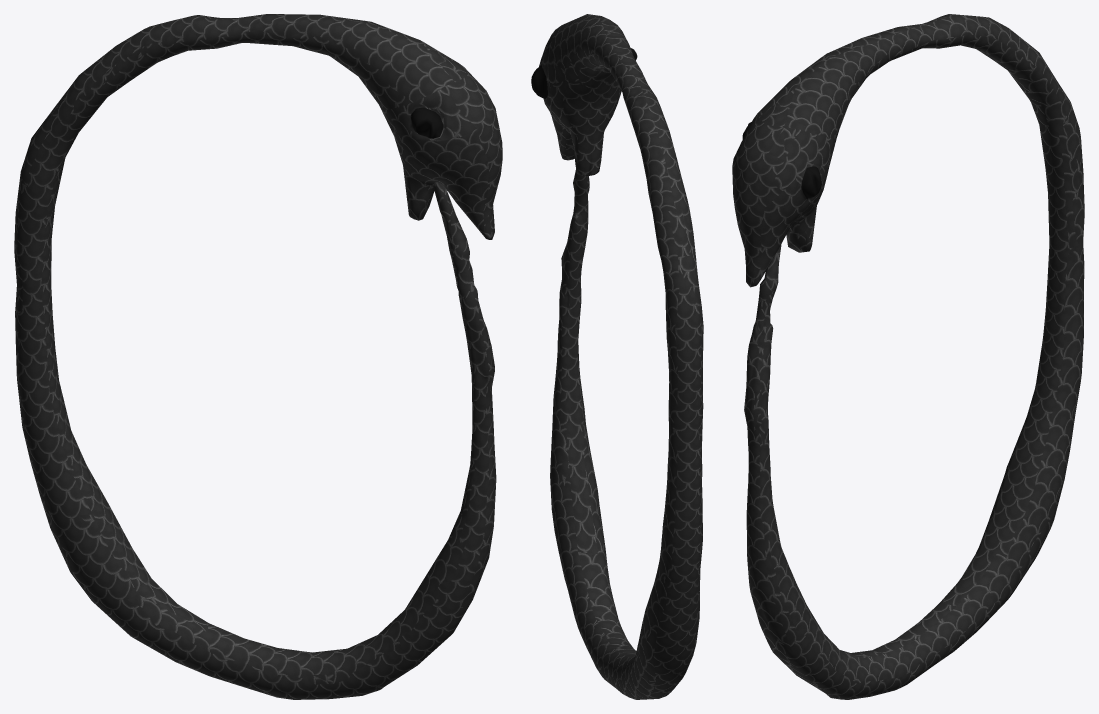
Rendered from ouro-1.glb.
The picture shows the model from 3 angles, left to right: view 1: azimuth 30°, elevation 25°; view 2: azimuth 150°, elevation 25°; view 3: azimuth 270°, elevation 25°; orthographic projection. The views are drawn at different scales.
Visible parts, largest first — view 1: ouro; view 2: ouro; view 3: ouro.
Boxes of the visible parts, left/top/right/bottom form: ouro: left=14, top=14, right=502, bottom=699; ouro: left=531, top=14, right=703, bottom=699; ouro: left=732, top=14, right=1084, bottom=699.
Bounding box in the file's own units: 4.18 × 8.46 × 4.13.
Materials: 3 (2 with a texture image).
